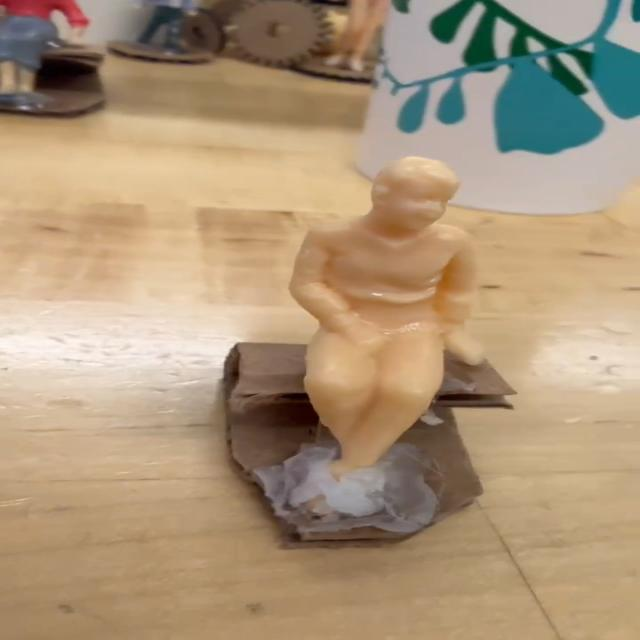Unauthorized: (255, 142, 484, 503)
